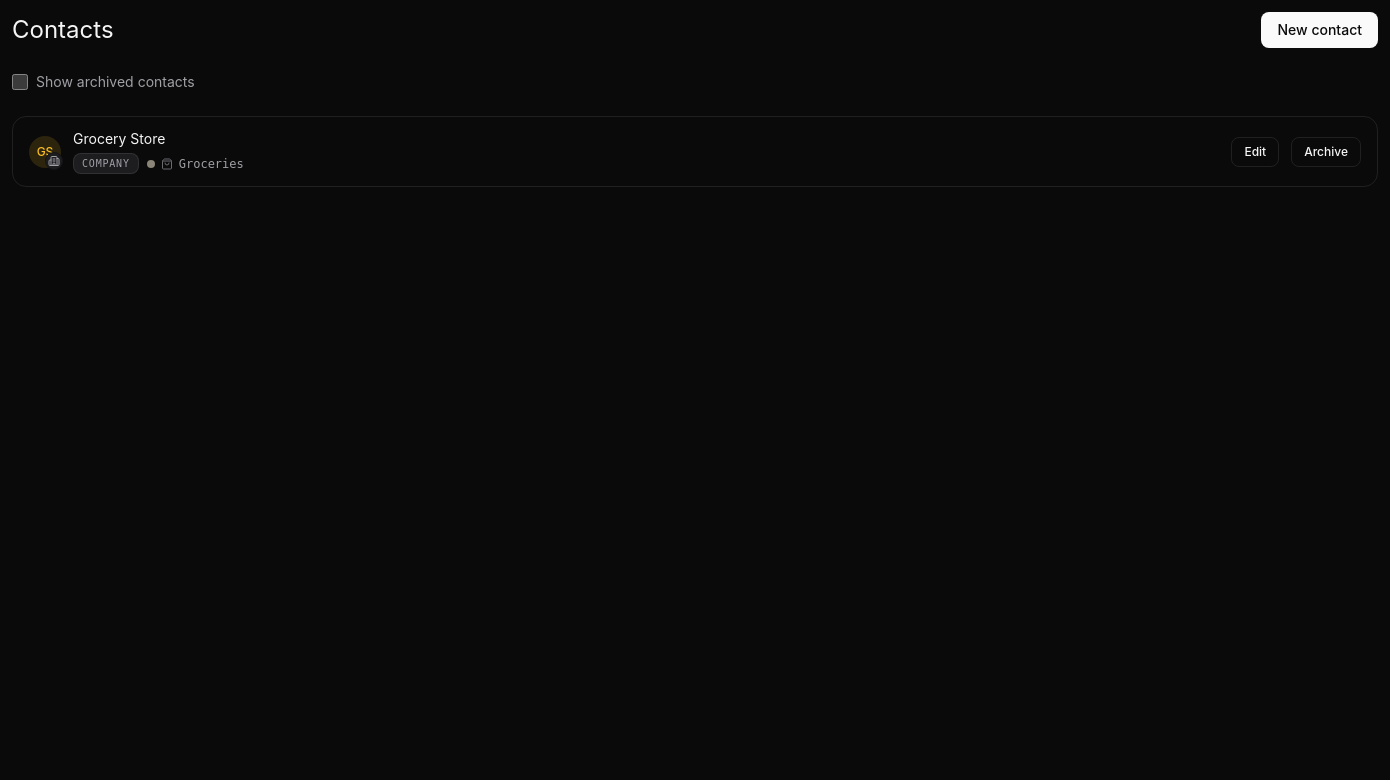
Scenario: ContactsScreen › archives a contact, hiding it until Show archived is checked
The image size is (1390, 780).
Click the button "Archive": (1326, 152) x1=1291 y1=136 x2=1361 y2=166
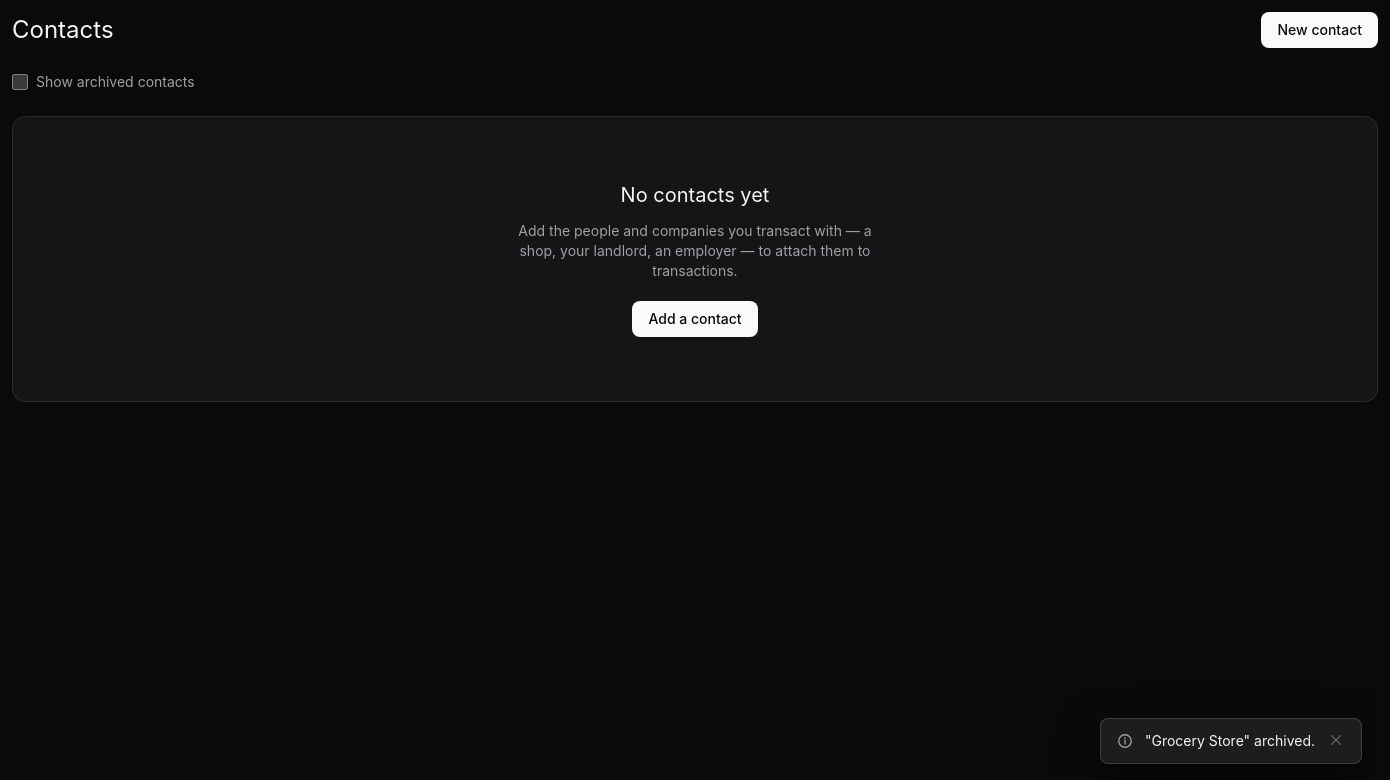
Click the checkbox labelled "Show archived contacts": (20, 82) x1=12 y1=74 x2=28 y2=90
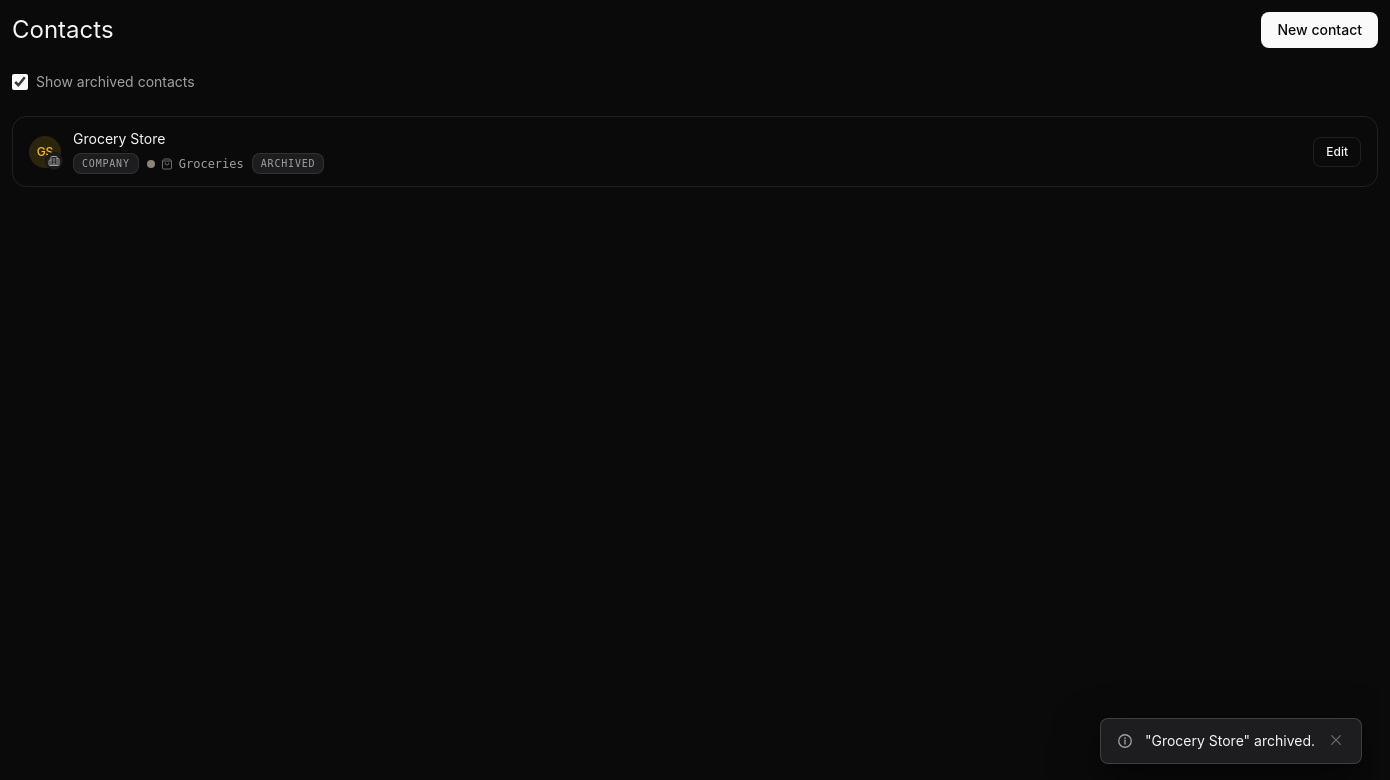
Result: the text "Archived" is shown at x1=252 y1=153 x2=324 y2=174
